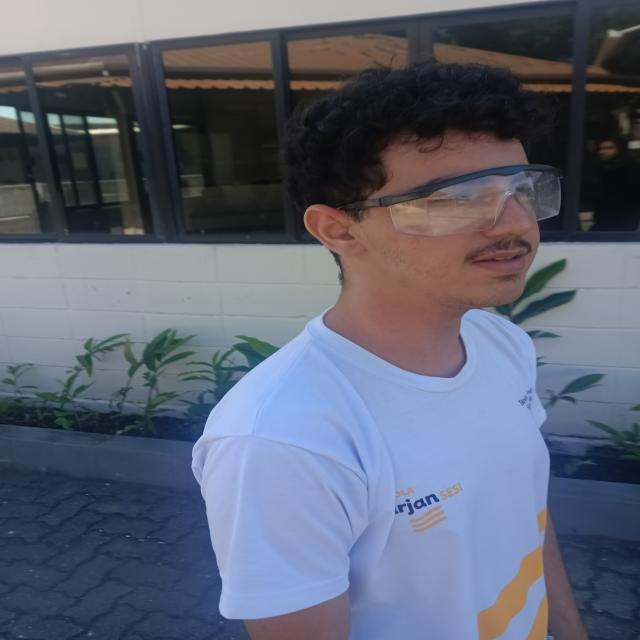oculos-epi: (336, 165, 561, 236)
